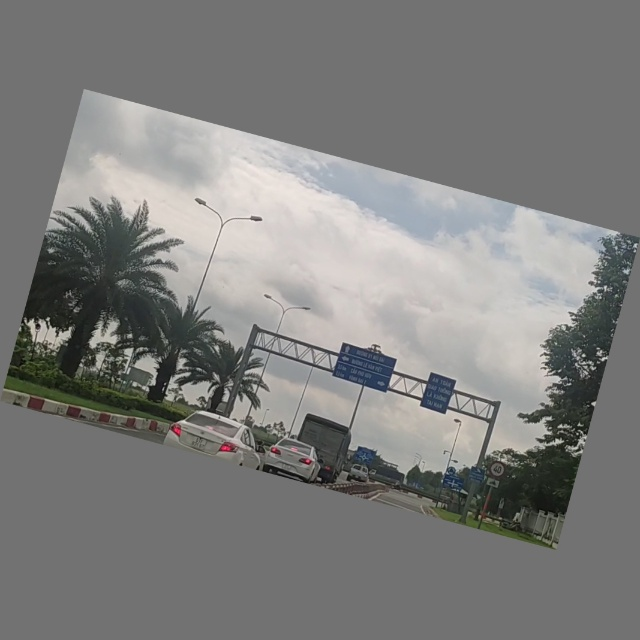P.127*40: (487, 459, 508, 481)
S.505a*Xe may: (484, 476, 502, 491)
